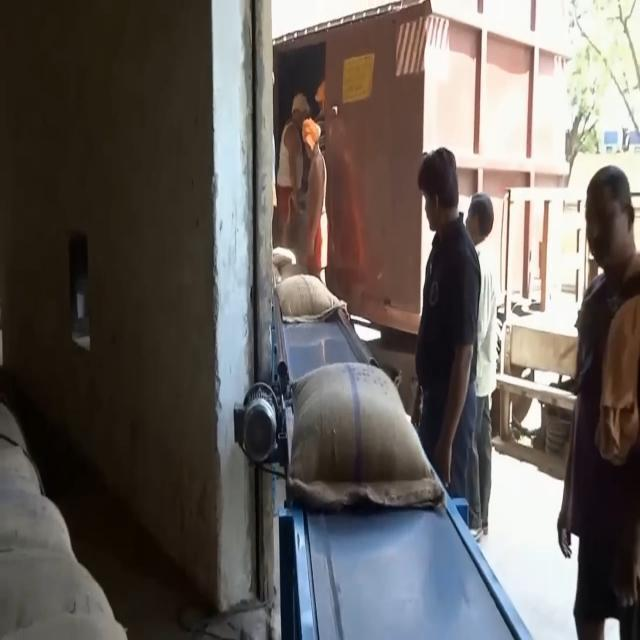gunny_bag: (280, 362, 443, 512), (0, 544, 116, 640), (270, 273, 353, 327)
